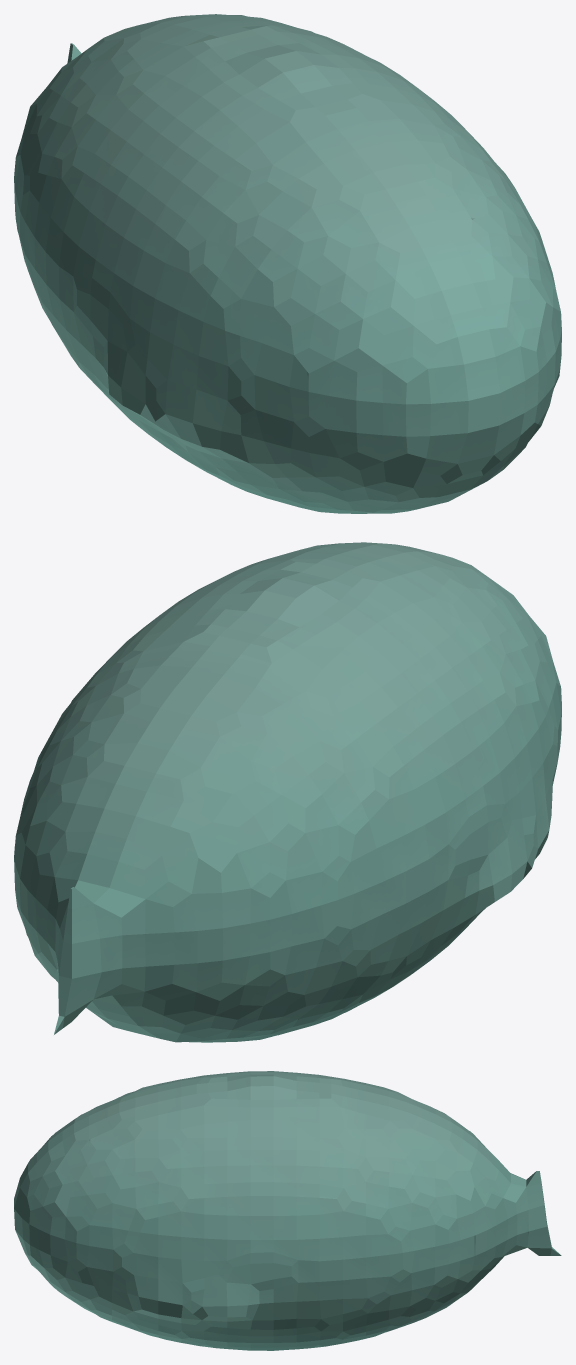
Rendered from giantOctopus.glb.
3 renders of one model, top to bottom at view 1: azimuth 30°, elevation 25°; view 2: azimuth 150°, elevation 25°; view 3: azimuth 270°, elevation 25°, orthographic. The views are drawn at different scales.
Parts seen in each view (by area): view 1: geometry_0; view 2: geometry_0; view 3: geometry_0.
Part boxes in pixels (left/top/right/bottom): geometry_0: left=14, top=14, right=561, bottom=513; geometry_0: left=14, top=542, right=561, bottom=1042; geometry_0: left=14, top=1071, right=561, bottom=1350.
Bounding box in the file's own units: 0.8522 × 0.8387 × 1.63.
1 material, 1 textured.
